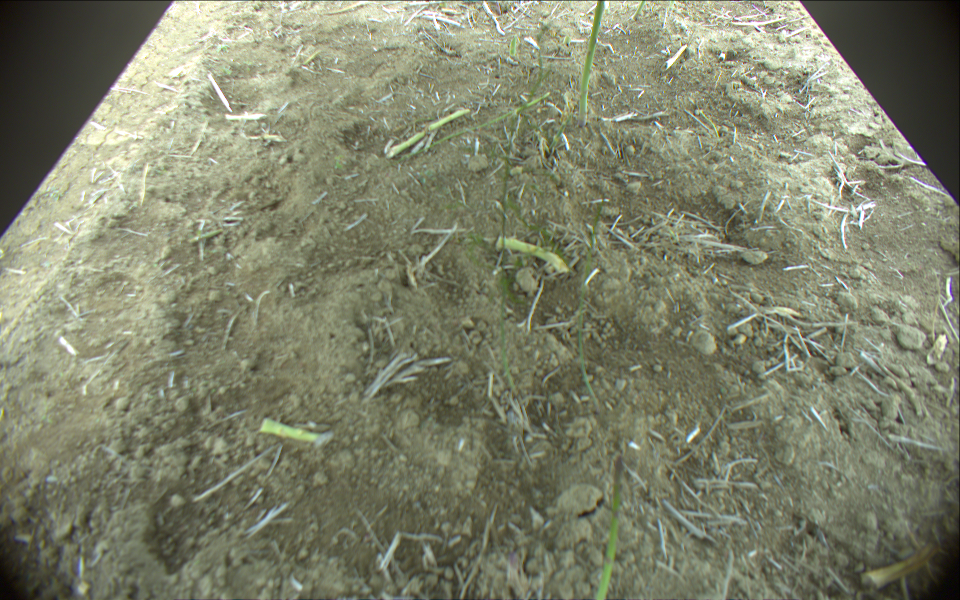aspa: (413, 92, 550, 151), (593, 451, 625, 600), (378, 107, 468, 155), (577, 1, 607, 126), (494, 234, 572, 275), (260, 418, 329, 447), (630, 1, 645, 21)
